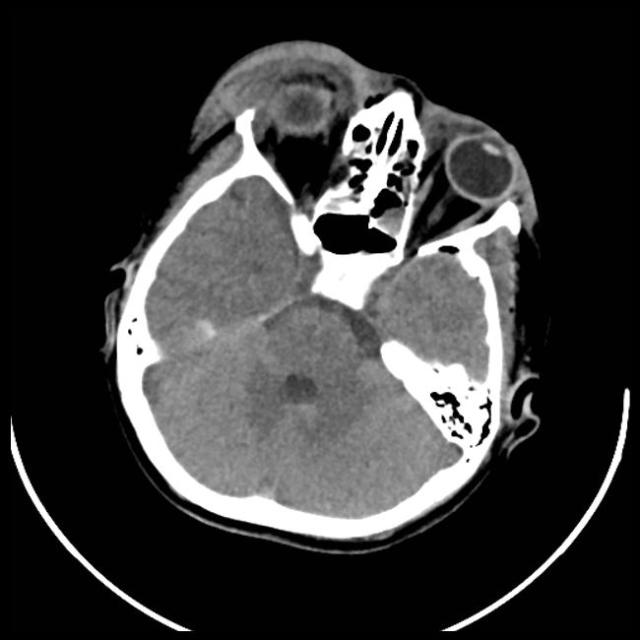lesion: (102, 39, 548, 548)
